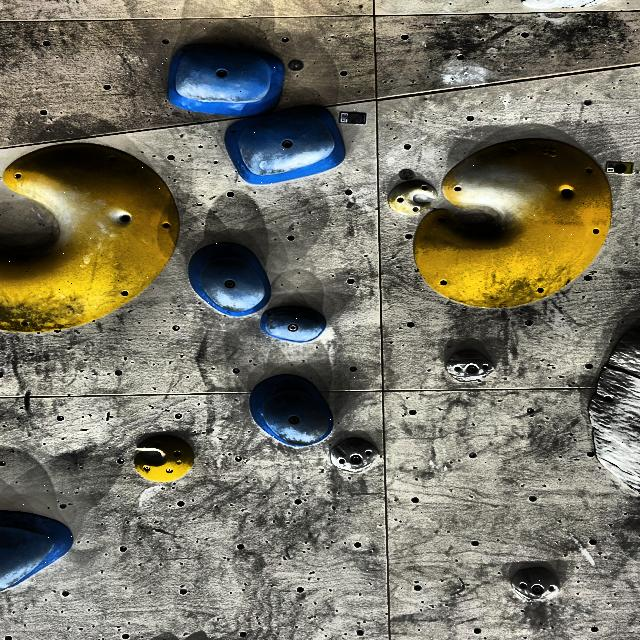Hold: (226, 106, 345, 184), (168, 46, 284, 115), (190, 245, 270, 315), (252, 377, 332, 446), (134, 435, 194, 482), (260, 307, 326, 342), (330, 438, 379, 473), (389, 181, 438, 214), (512, 567, 558, 601), (446, 353, 493, 381), (523, 0, 611, 10)
Macro: (0, 143, 180, 332), (414, 138, 612, 308), (589, 330, 640, 489), (0, 511, 73, 591)
start_tag: (348, 113, 361, 124), (400, 170, 414, 180), (289, 60, 302, 70), (614, 164, 626, 174)
